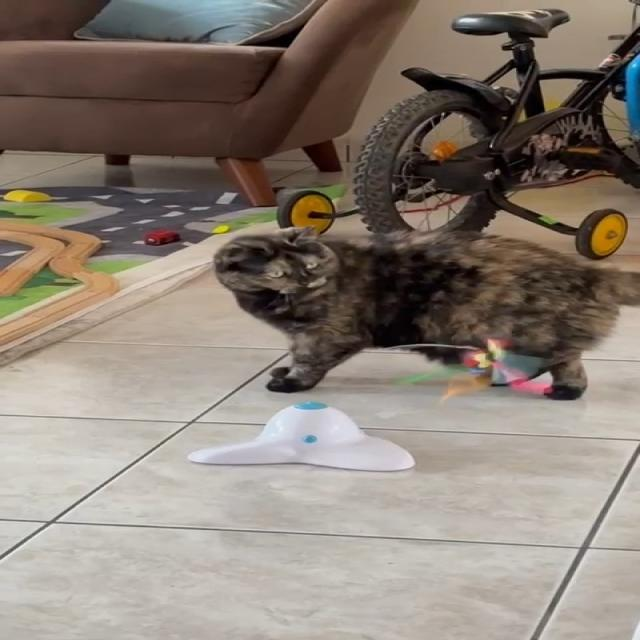authorized: (211, 224, 638, 400)
